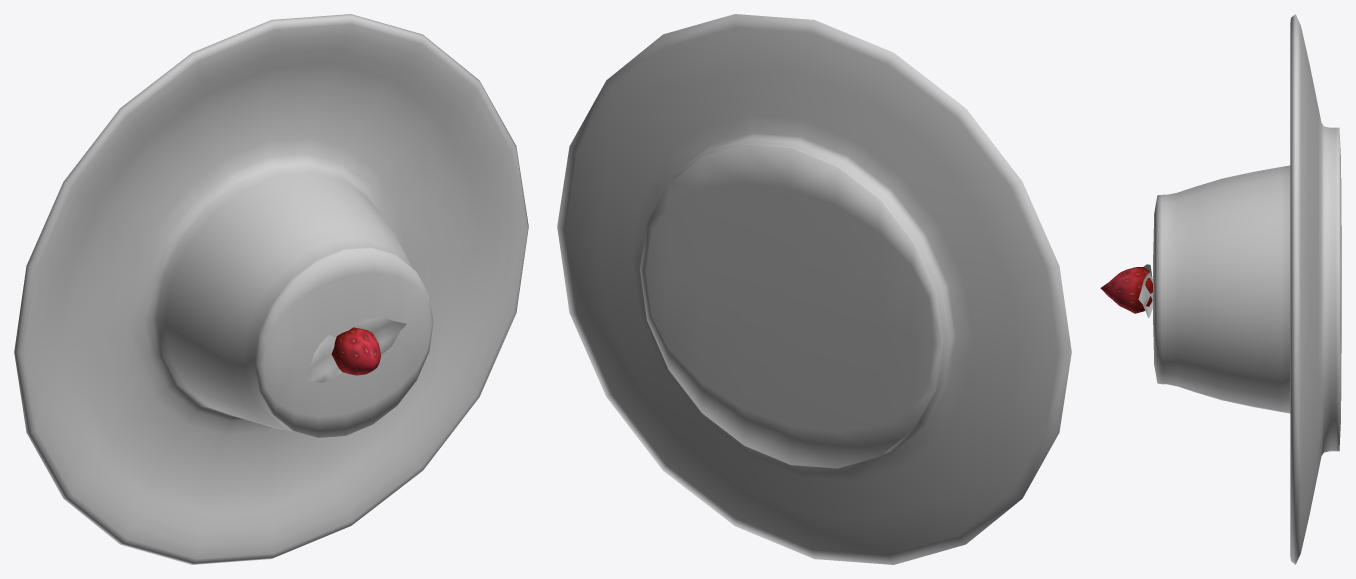
File: flan.obj
3 renders of one model, left to right at view 1: azimuth 30°, elevation 25°; view 2: azimuth 150°, elevation 25°; view 3: azimuth 270°, elevation 25°, orthographic. The views are drawn at different scales.
Size of the model in its own units: 0.1383 by 0.1385 by 0.0601.
